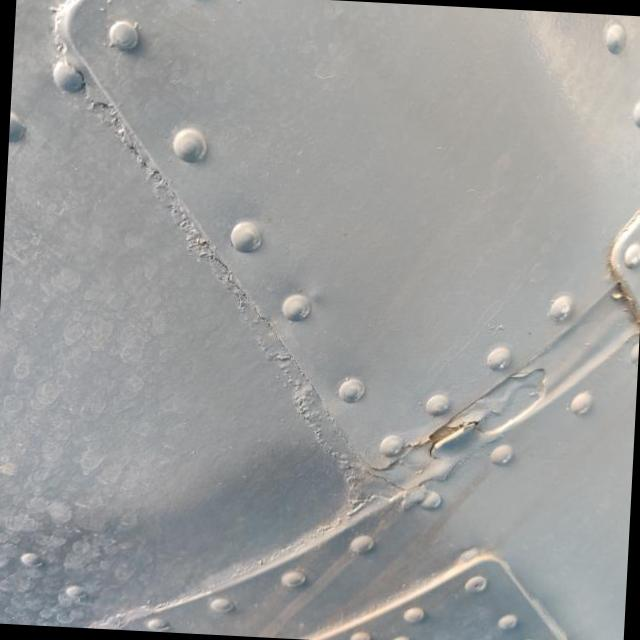Crack: (396, 412, 486, 459)
